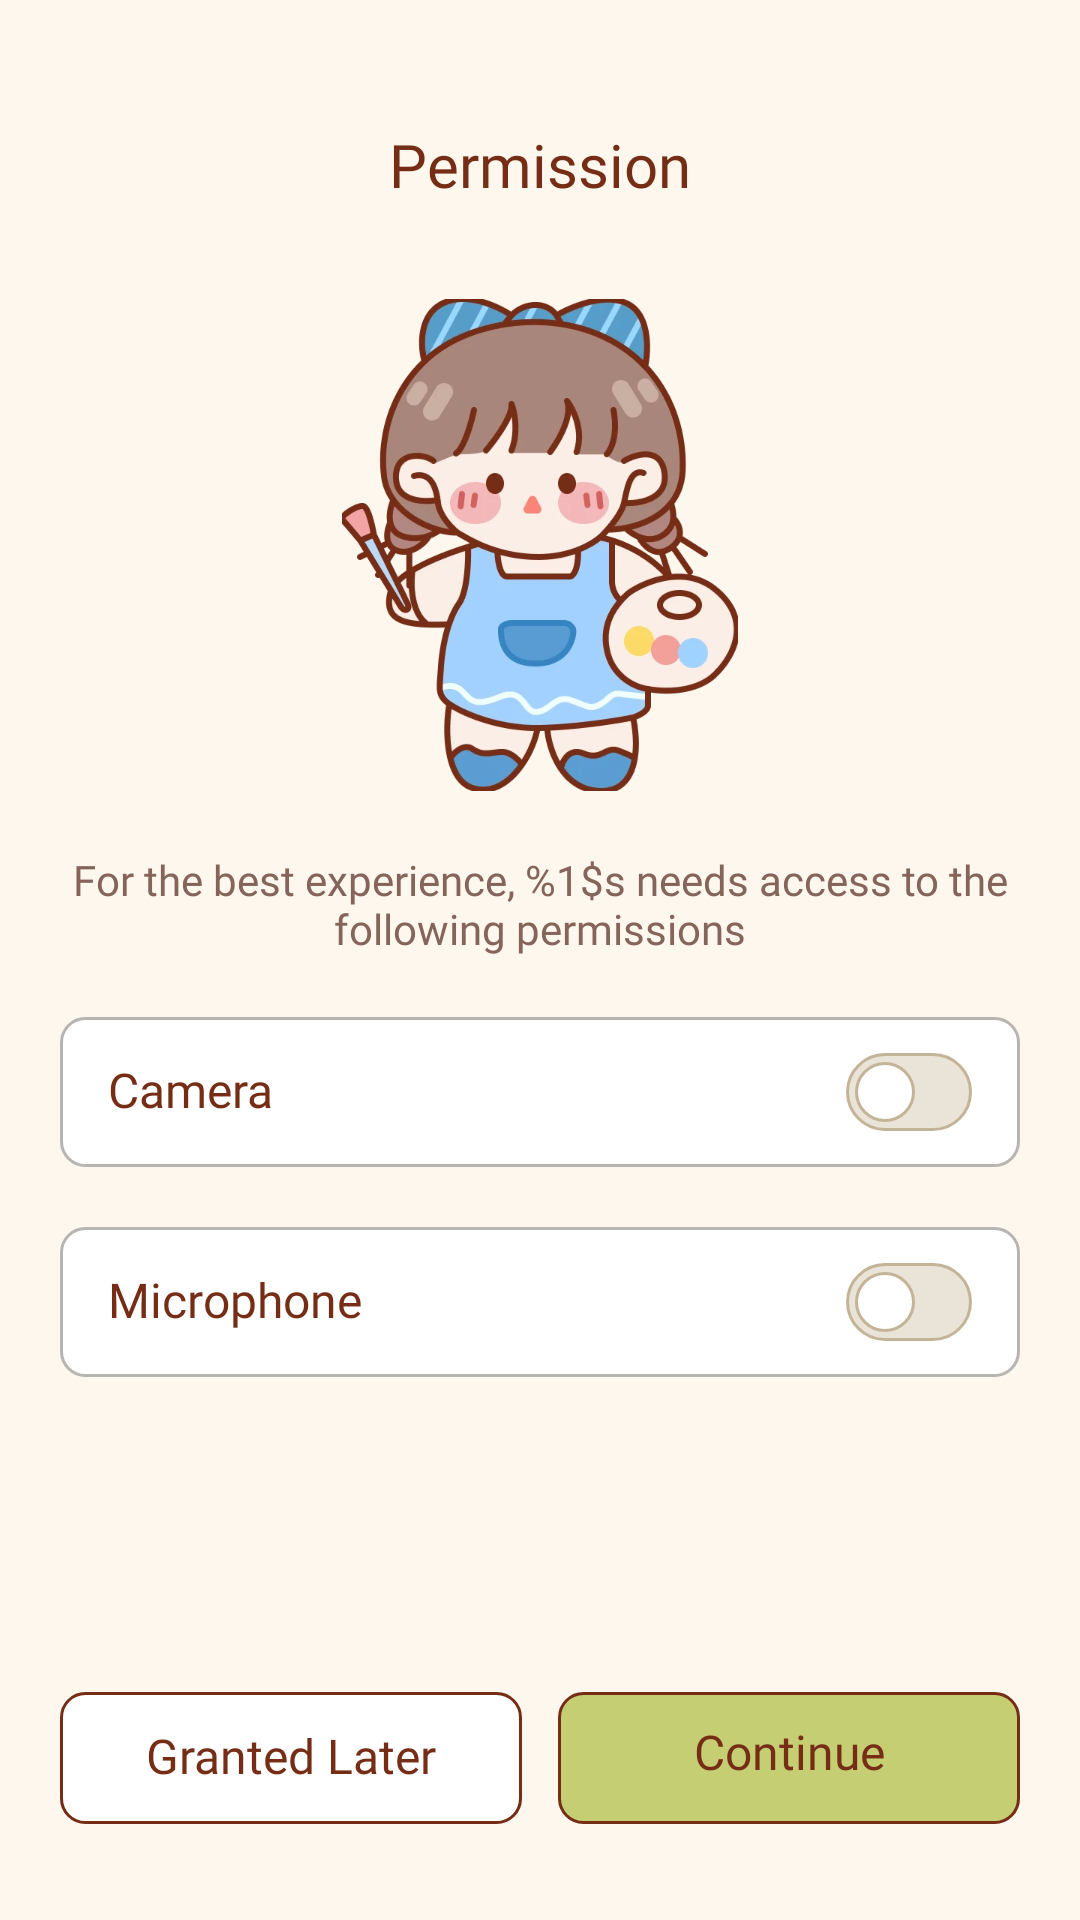

Named icons in this screenshot (1080×1920) and their bounding boxes, bbox(x1, y1, x2, y2):
switch: bbox(846, 1053, 972, 1131), bbox(846, 1263, 972, 1341)
